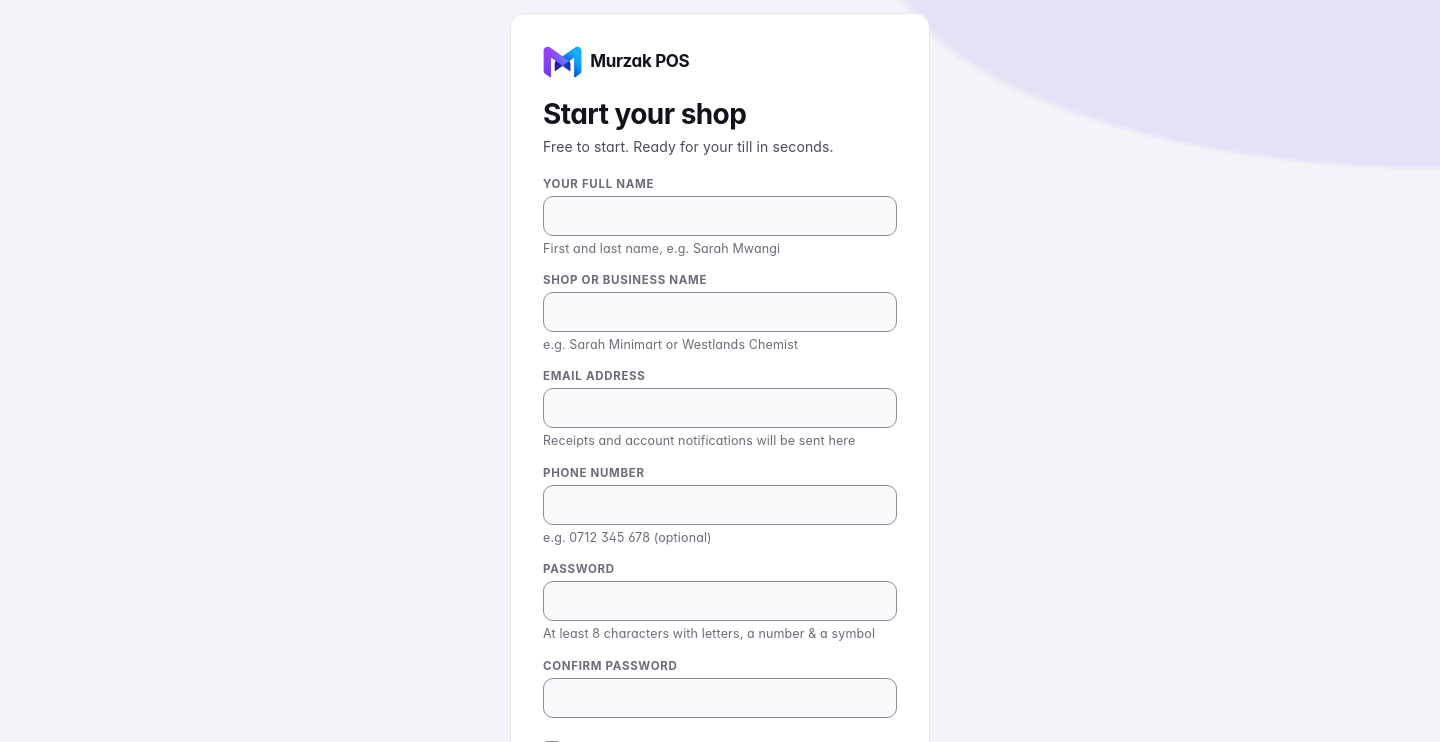
SignUpPage › validates full name must have first and last name
Type "Grace" into the field labelled "Your full name". click: [720, 216]
box: 544,196 -> 896,234
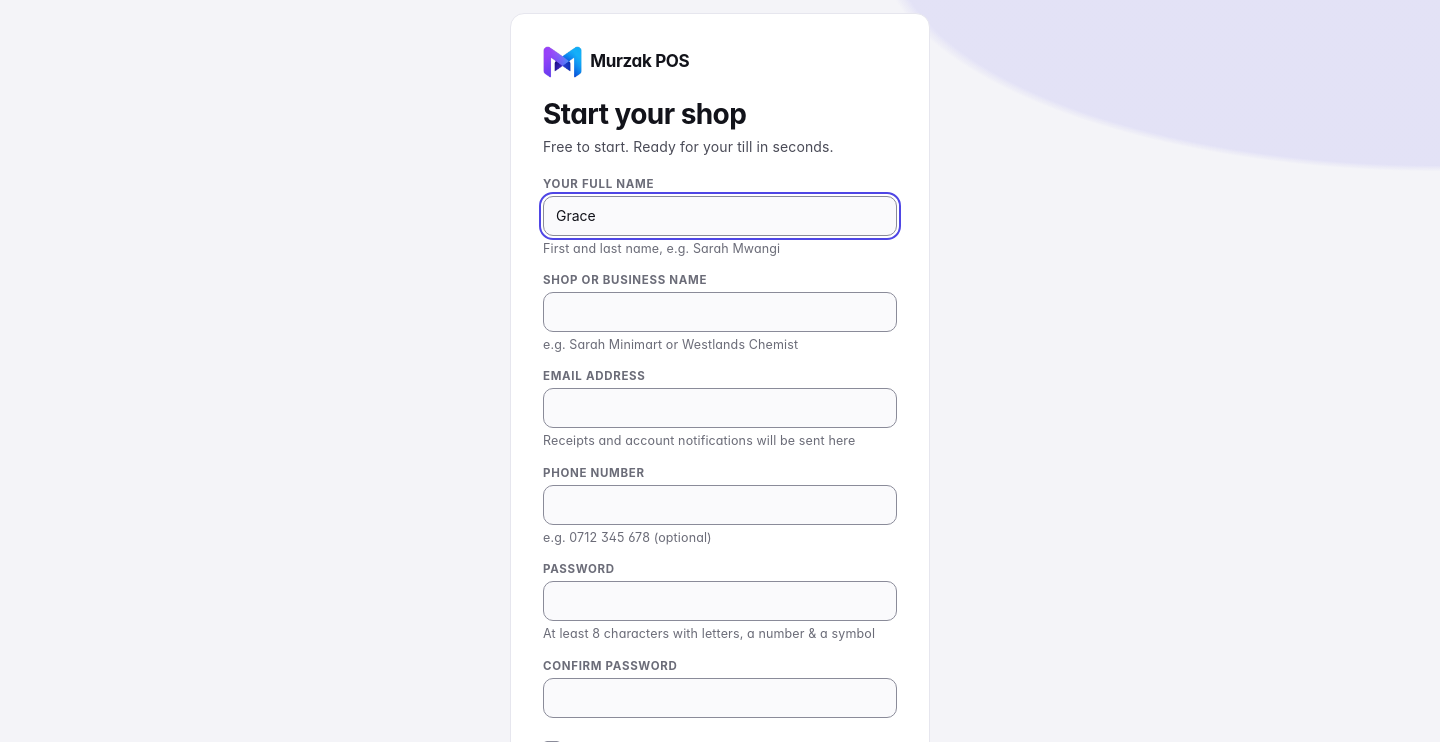
Type "Grace Tech" into the field labelled "Shop or business name". click: [720, 312]
box: 544,293 -> 896,331
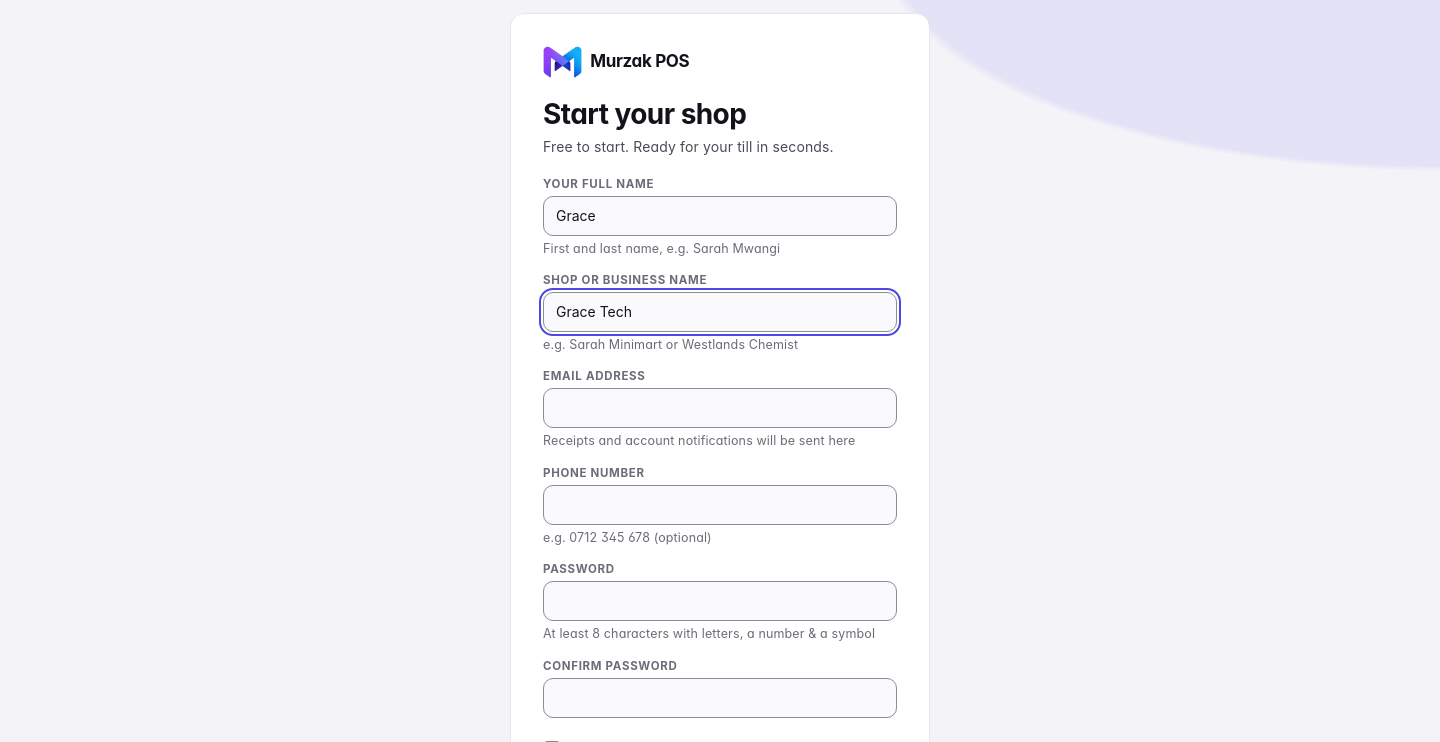
Type "grace@example.com" into the field labelled "Email address". click: [720, 408]
box: 544,389 -> 896,427
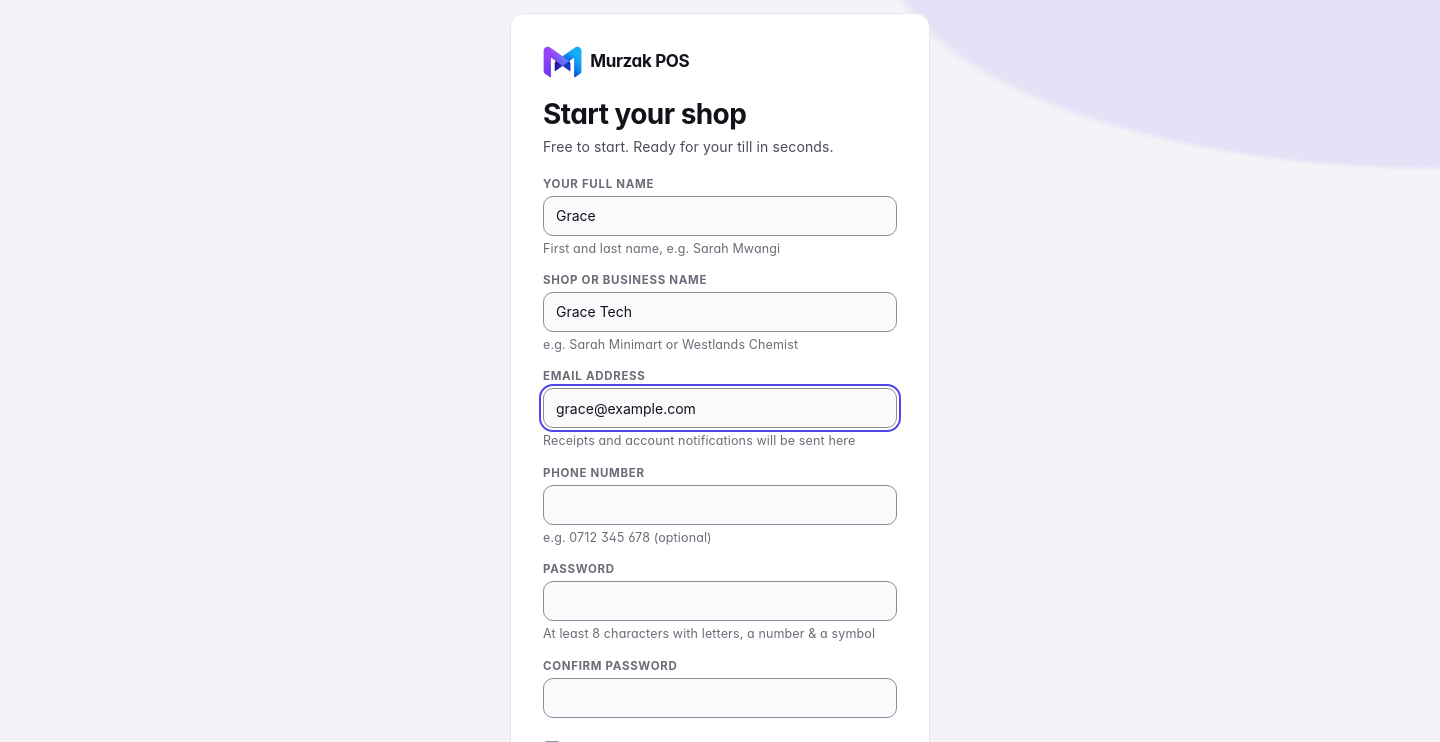
Type "Secret123!" into the password field labelled "Password". click: [720, 601]
box: 544,582 -> 896,620
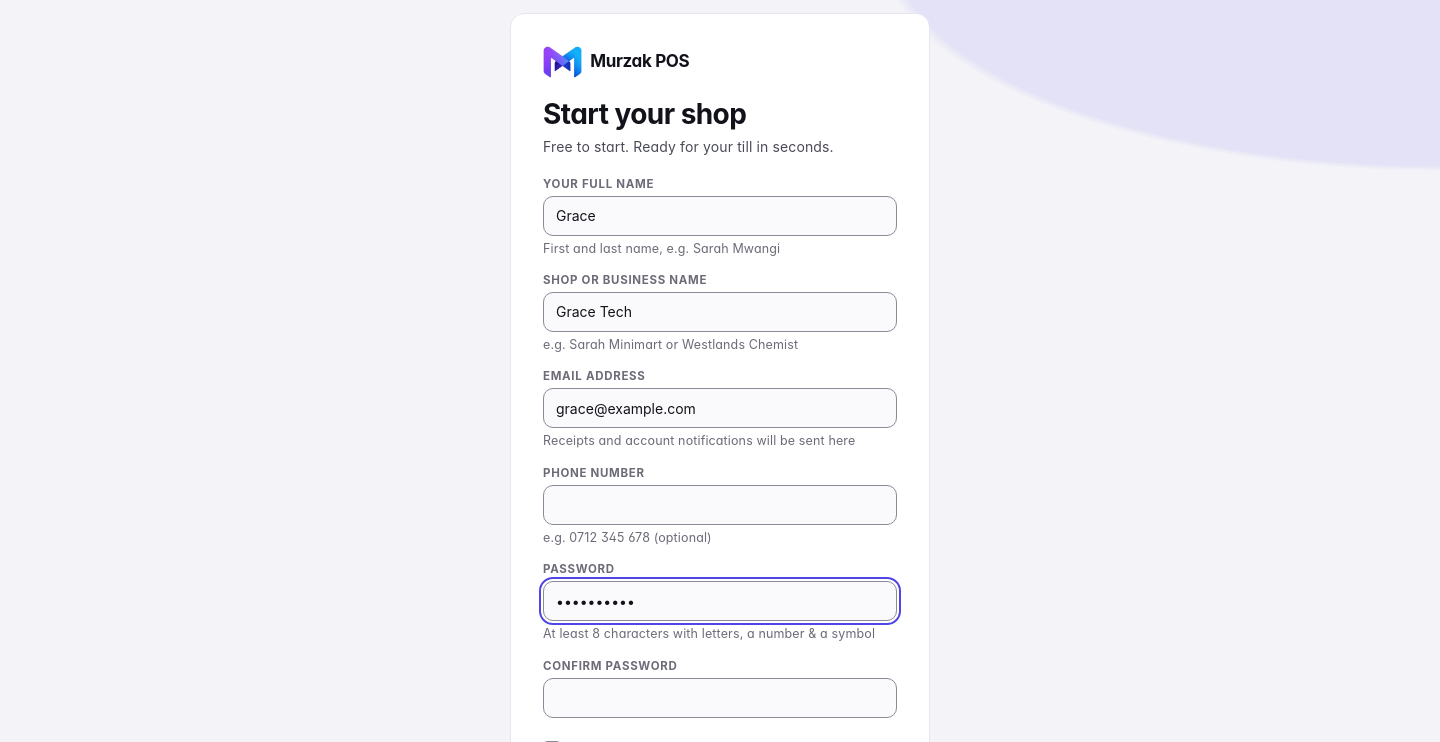
Type "Secret123!" into the password field labelled "Confirm password". click: [720, 698]
box: 544,679 -> 896,717
(page scrolled)
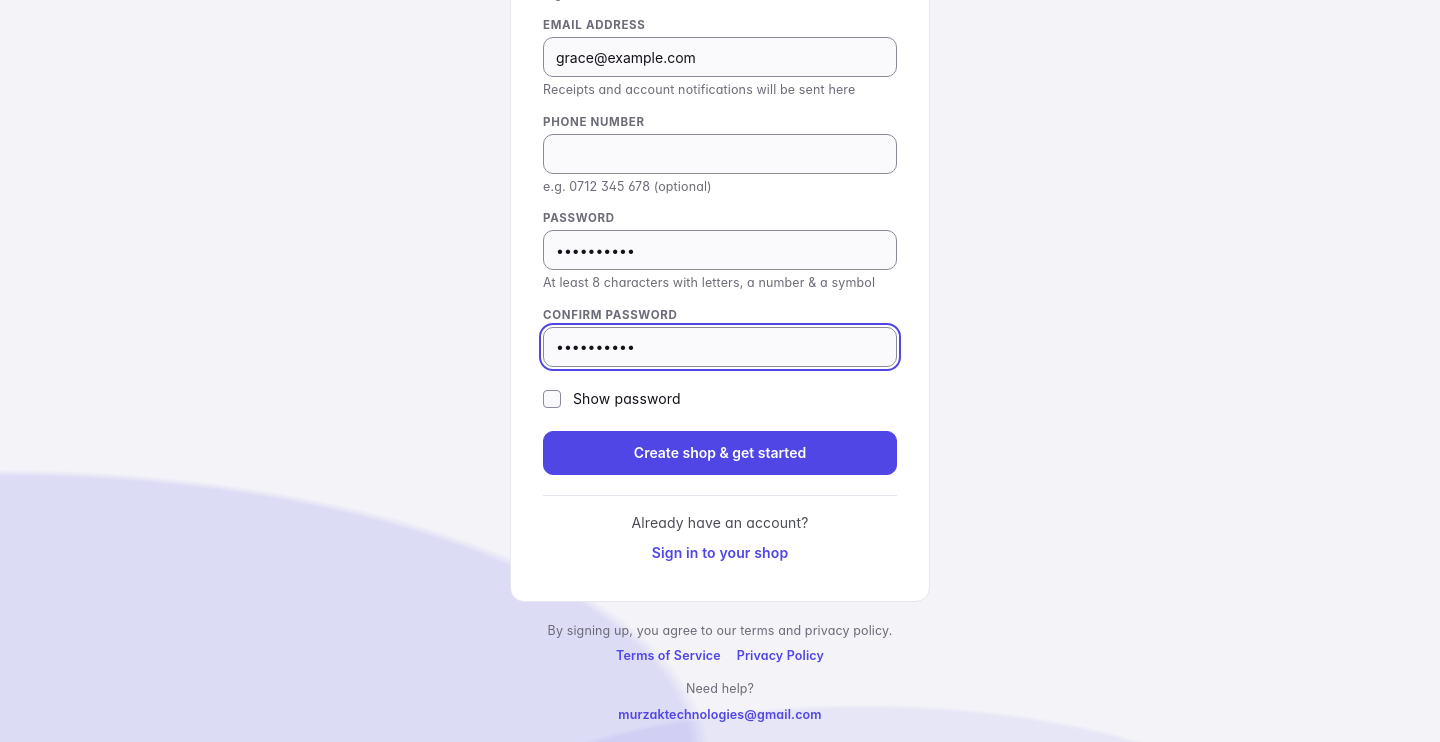
Click the button "Create shop & get started". click: [720, 453]
box: 543,431 -> 897,475
(page scrolled)
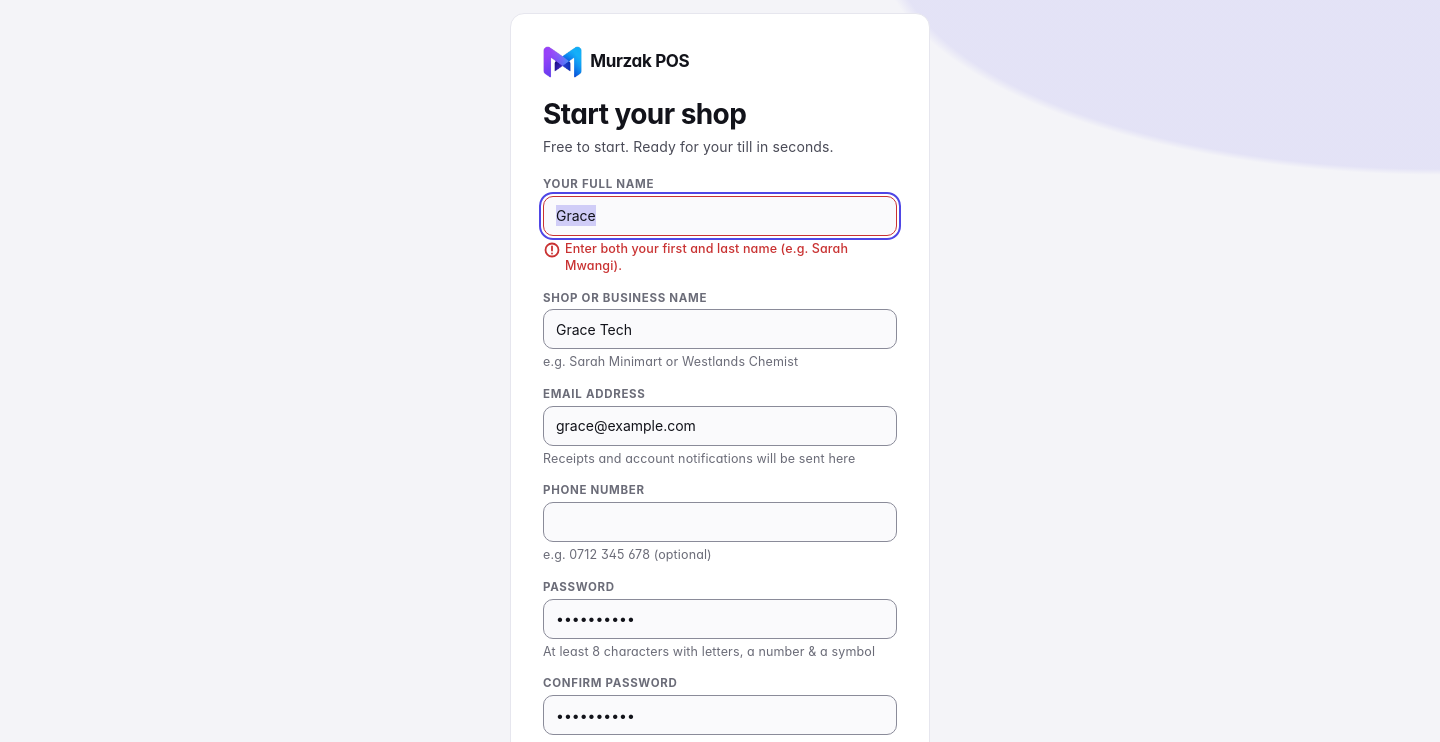
expect the text "Enter both your first and last name (e.g. Sarah Mwangi)." is shown: met, box 565,240 -> 897,274
